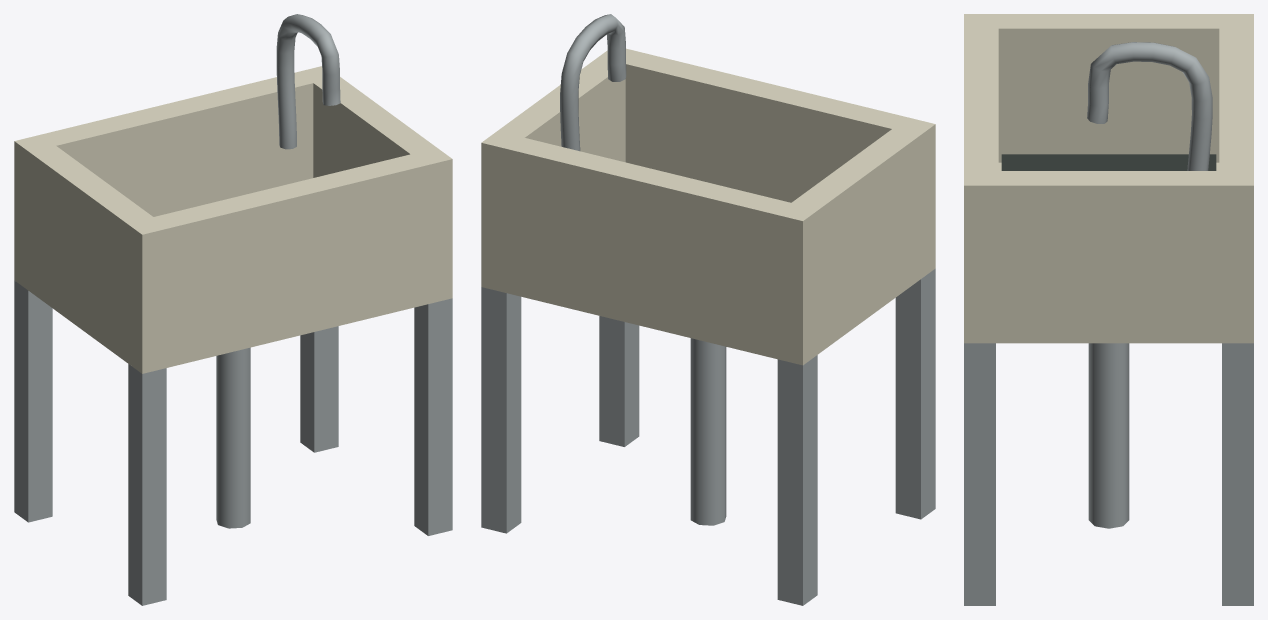
The model's file is rural-scavenging-settlements-washstand-6074b541__26567.glb.
3 views of the same model, side by side, from view 1: azimuth 30°, elevation 25°; view 2: azimuth 150°, elevation 25°; view 3: azimuth 270°, elevation 25° (orthographic). The views are drawn at different scales.
Visible parts, largest first — view 1: washstand; view 2: washstand; view 3: washstand.
Part boxes in pixels (x1,y1,x2,y2): washstand: [14, 14, 452, 605]; washstand: [481, 14, 935, 605]; washstand: [964, 14, 1253, 605].
Size of the model in its own units: 0.7001 by 1.01 by 0.5.
